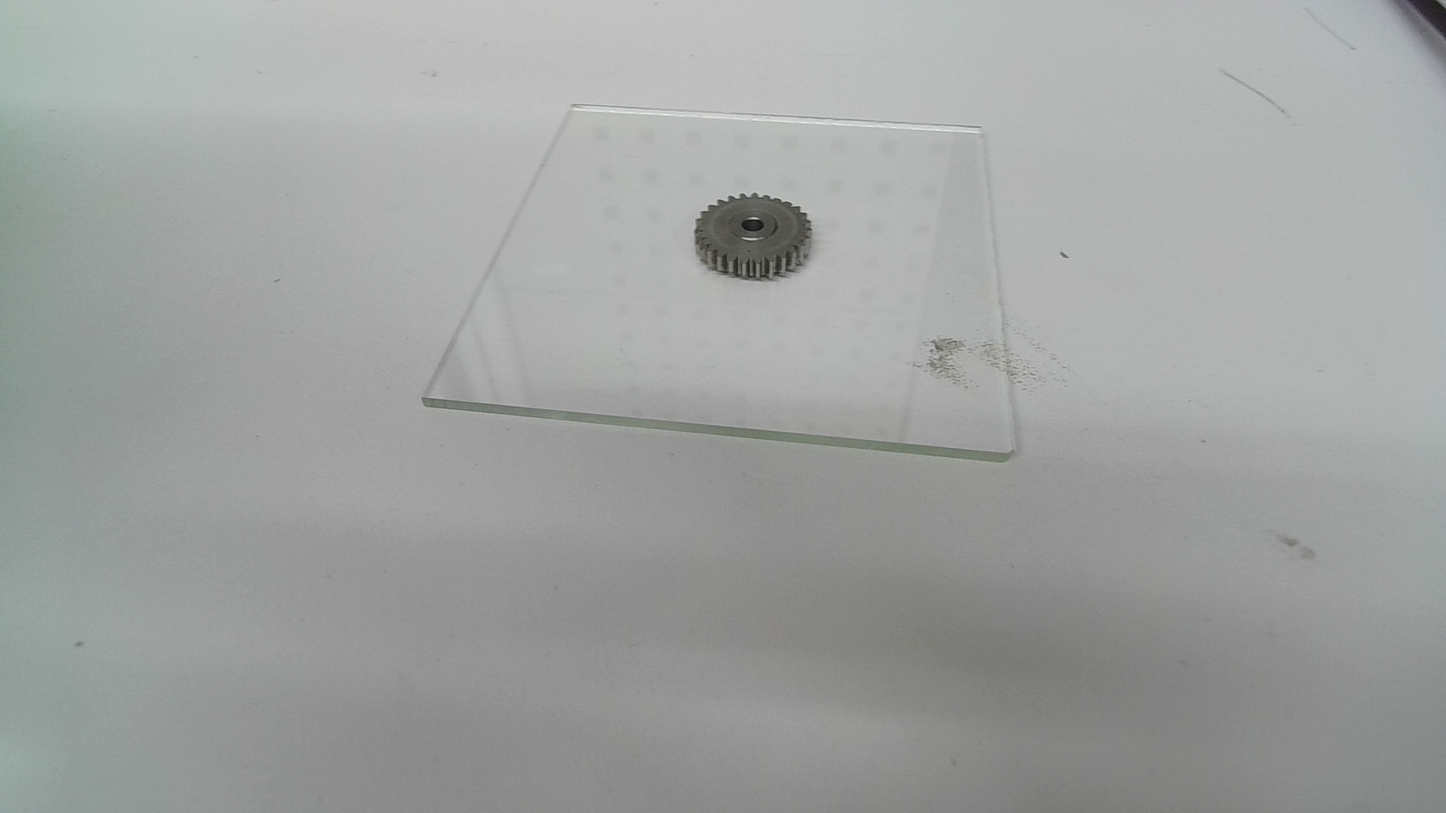gear: (691, 191, 816, 282)
